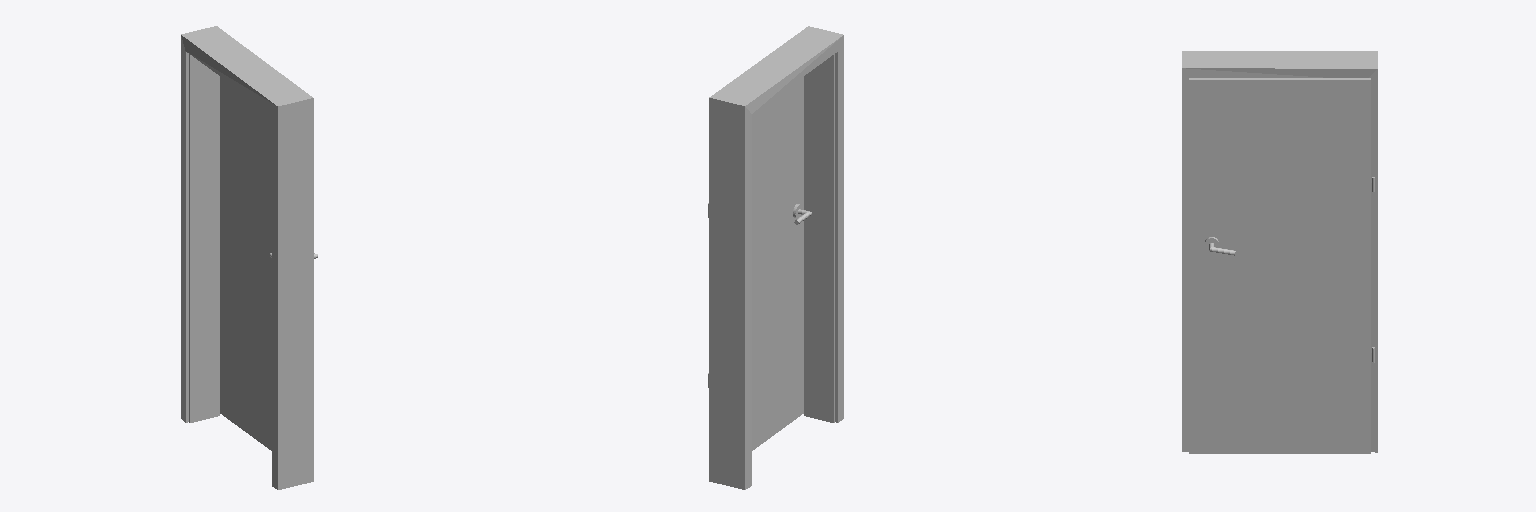
Rendered from door94.obj.
The picture shows the model from 3 angles: view 1: azimuth 30°, elevation 25°; view 2: azimuth 150°, elevation 25°; view 3: azimuth 270°, elevation 25°; orthographic projection.
Visible parts, largest first — view 1: Cylinder.005, Cylinder.001; view 2: Cylinder.005, Cylinder.001; view 3: Cylinder.001, Cylinder.005.
Part boxes in pixels (left/top/right/bottom): Cylinder.005: left=181, top=26, right=313, bottom=489; Cylinder.001: left=220, top=77, right=271, bottom=450; Cylinder.005: left=708, top=26, right=843, bottom=489; Cylinder.001: left=708, top=77, right=803, bottom=450; Cylinder.001: left=1189, top=78, right=1374, bottom=453; Cylinder.005: left=1182, top=51, right=1377, bottom=452.
Bounding box in the file's own units: 0.3039 × 2.05 × 0.95.